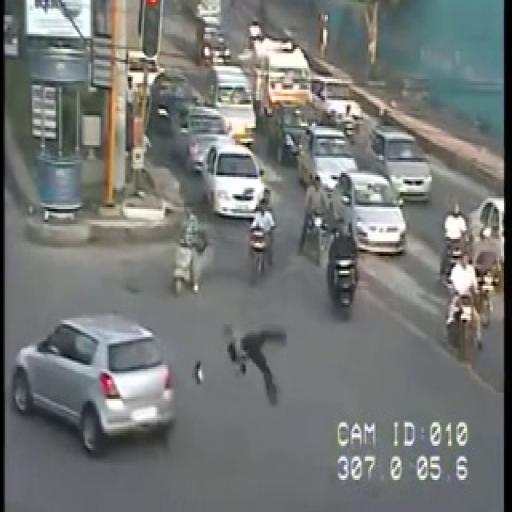Car: (14, 313, 175, 453), (334, 170, 406, 254), (200, 142, 266, 216), (367, 126, 431, 202), (202, 65, 256, 146), (248, 45, 312, 110), (296, 124, 355, 192), (180, 107, 232, 171), (152, 73, 202, 134), (309, 76, 362, 130), (468, 195, 506, 268), (269, 104, 313, 165), (125, 52, 164, 106), (196, 20, 229, 66)
Major Accident: (13, 312, 284, 454)
Motor: (175, 312, 284, 426), (168, 204, 211, 298), (444, 250, 482, 356), (326, 224, 359, 310), (472, 246, 502, 324), (301, 176, 329, 253), (247, 208, 275, 282), (440, 217, 470, 279), (248, 19, 263, 47)
